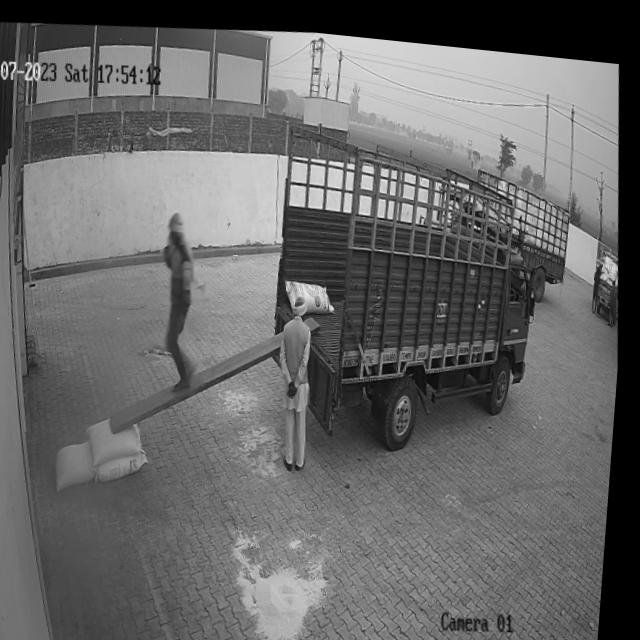sack: (90, 411, 149, 466), (58, 434, 104, 492), (286, 269, 340, 311), (100, 443, 155, 482)
